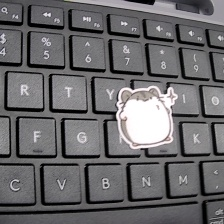mouse: (114, 86, 178, 150)
